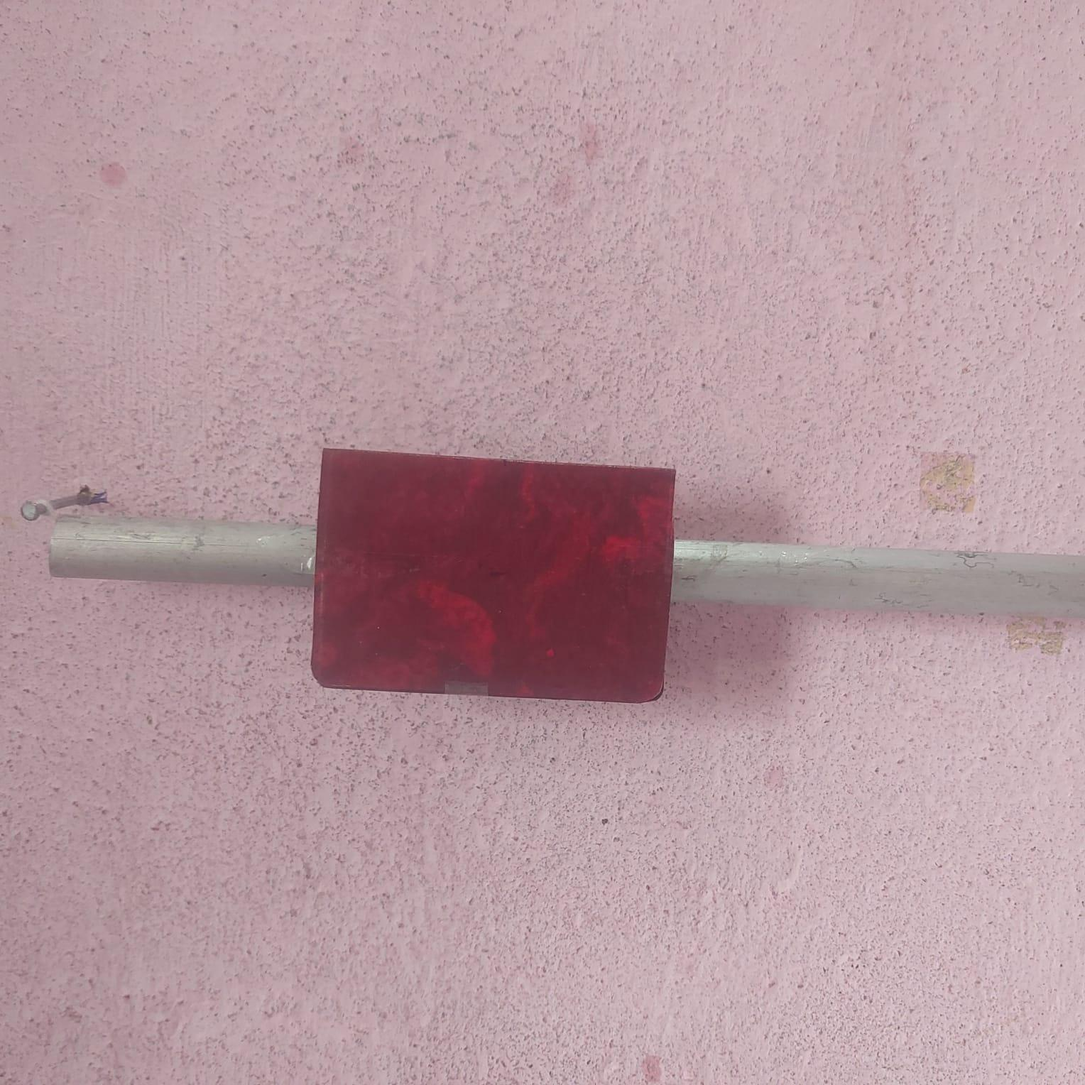wallet: (309, 444, 679, 706)
